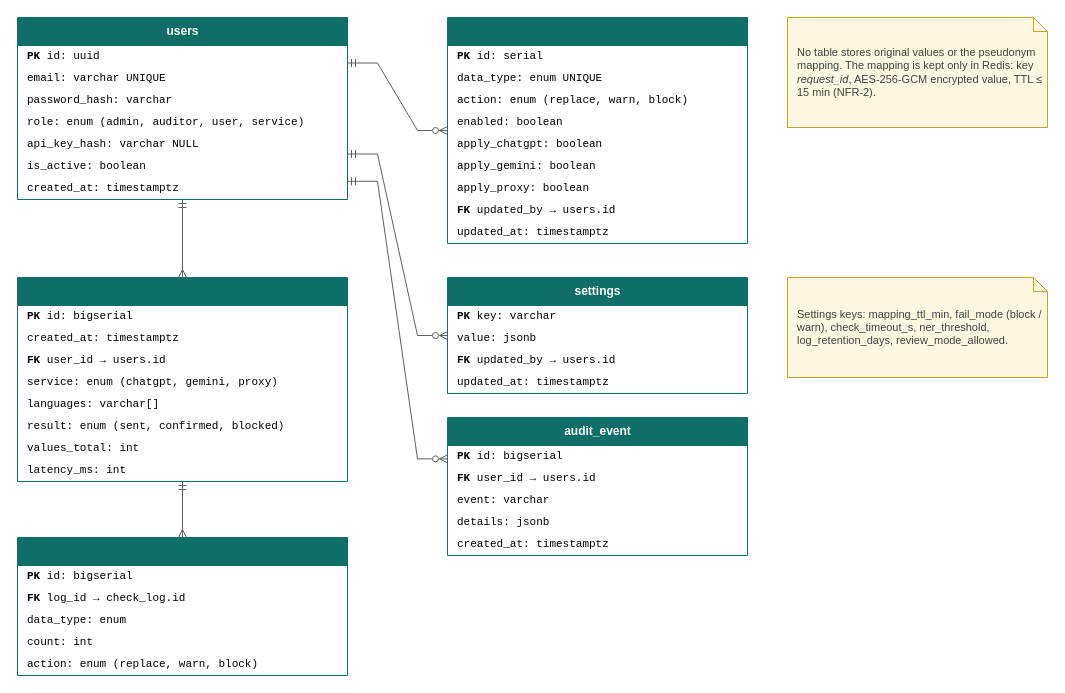
This 1065x693 diagram has some shape labels left out. Each missing label, with the box of its shape:
check_log: (16, 276, 348, 482)
log_detection: (16, 536, 348, 676)
policies: (446, 16, 748, 244)
